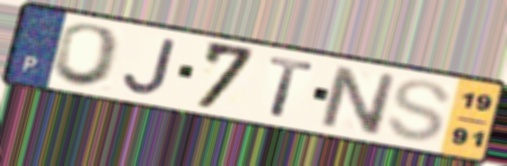7: (195, 39, 258, 112)
J: (121, 36, 180, 97)
N: (318, 62, 397, 139)
O: (47, 21, 125, 90)
S: (384, 77, 454, 144)
T: (266, 54, 317, 121)
